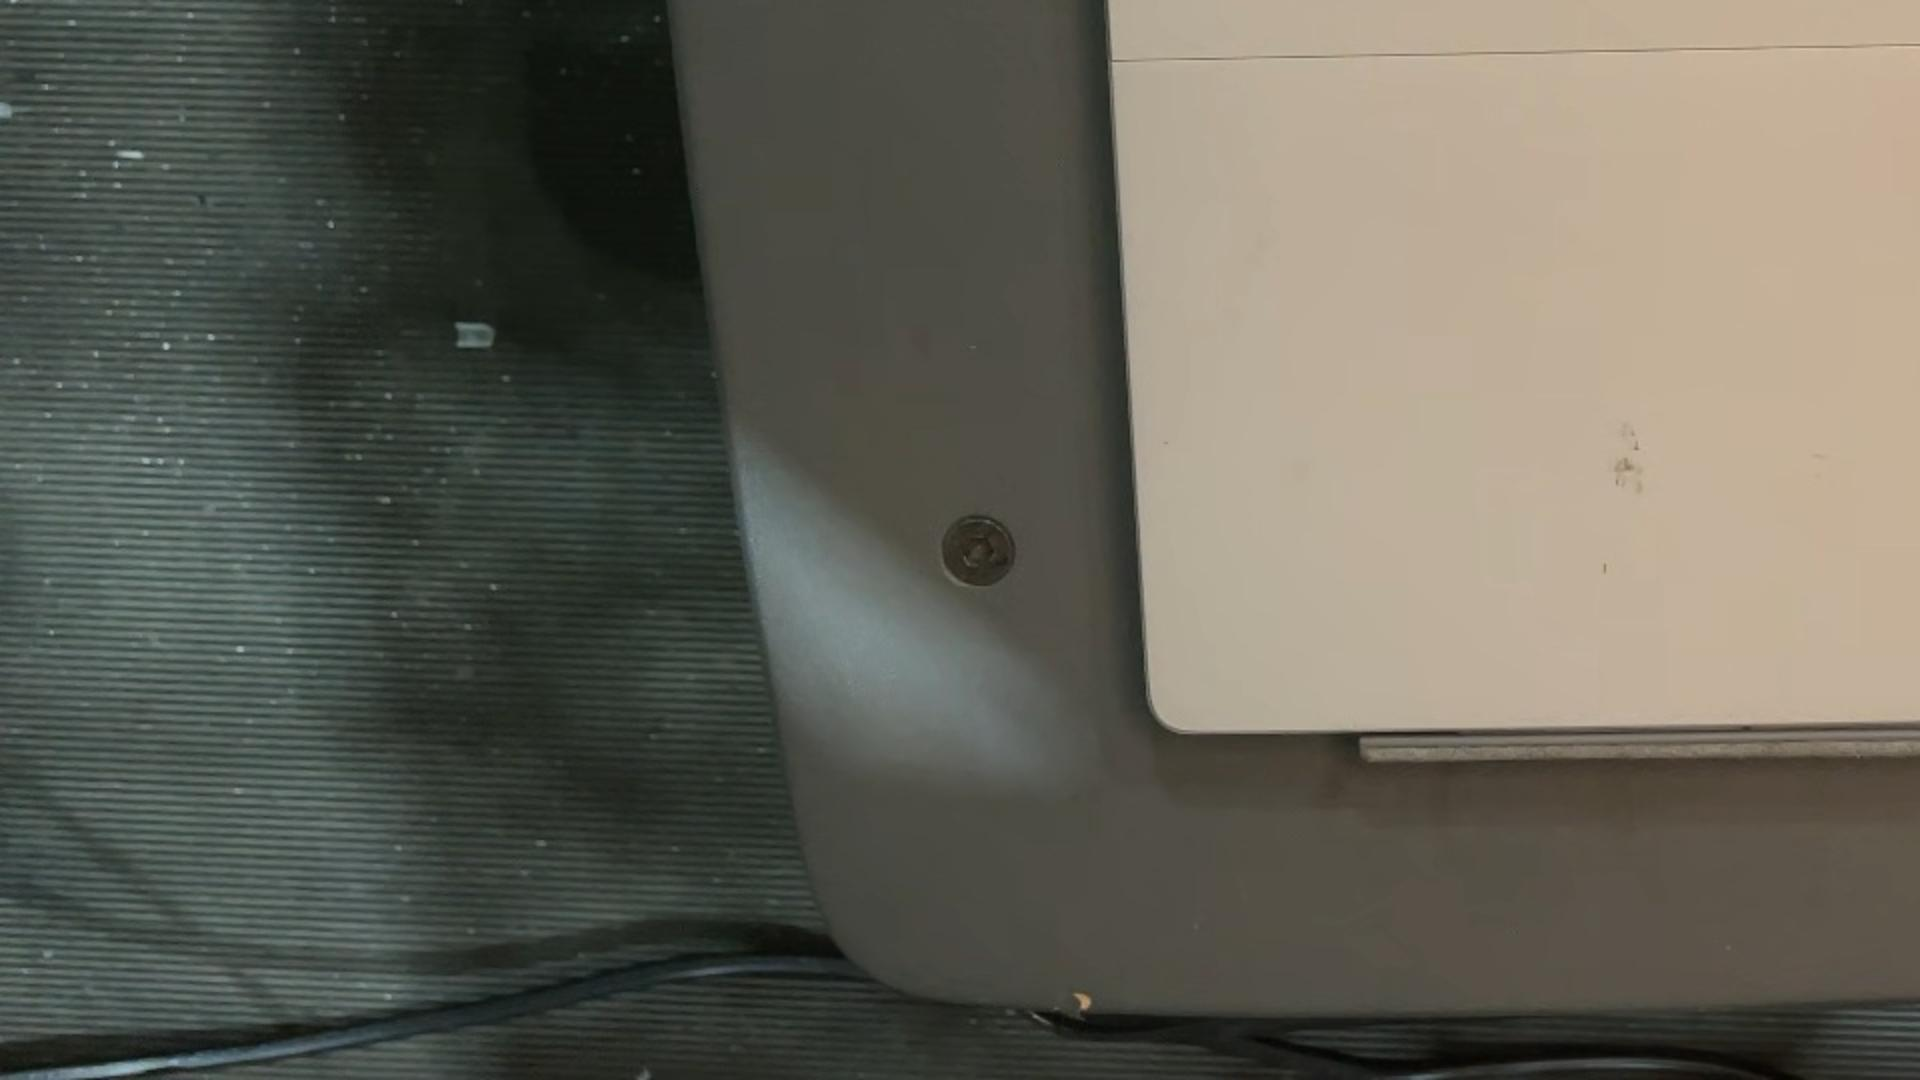scratches: (1602, 560, 1607, 576)
